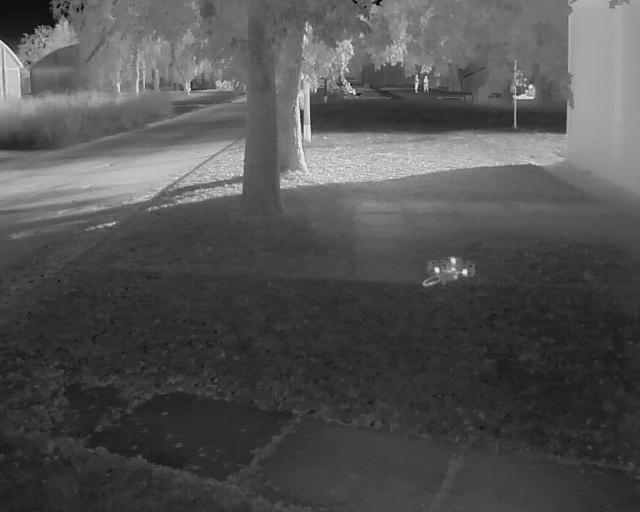drone: (415, 249, 475, 293)
